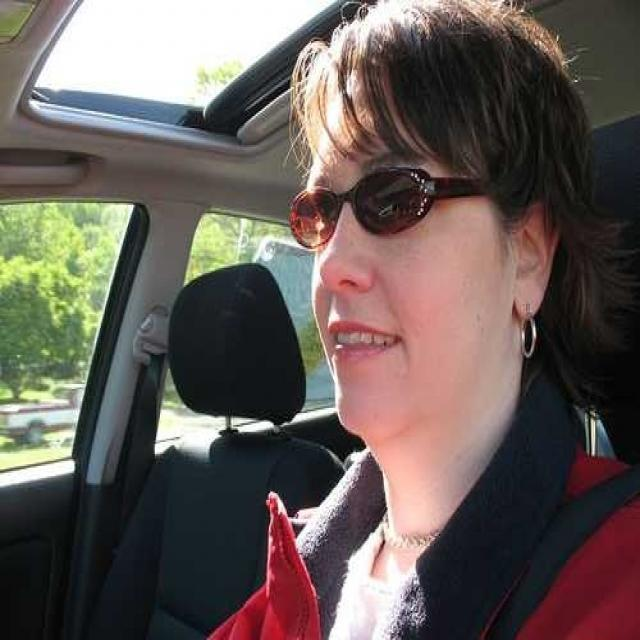seatbelt: (513, 457, 626, 599), (111, 348, 165, 480)
